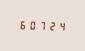four: (54, 20, 62, 31)
seven: (36, 19, 44, 31)
six: (18, 19, 26, 30)
two: (45, 20, 53, 31)
zero: (27, 19, 35, 30)
